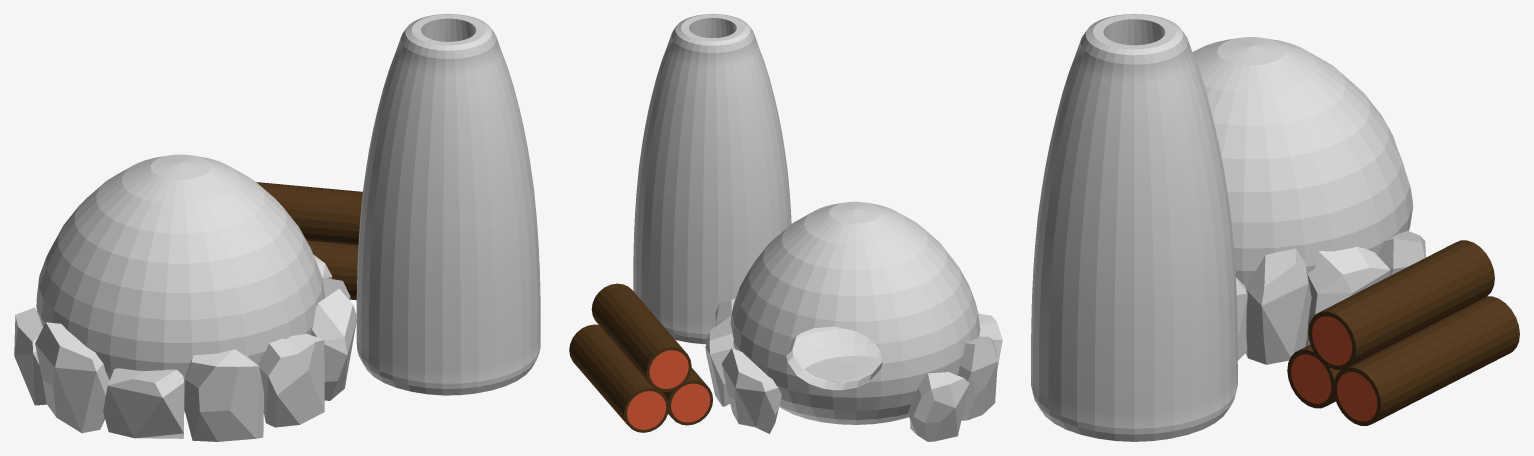
The model's file is kiln_03(1).fbx.
The picture shows the model from 3 angles, left to right: view 1: azimuth 30°, elevation 25°; view 2: azimuth 150°, elevation 25°; view 3: azimuth 270°, elevation 25°; orthographic projection. The views are drawn at different scales.
Parts seen in each view (by area): view 1: Cylinder, Sphere, Icosphere.007, Icosphere.004, Icosphere.005, Icosphere.008, Cylinder.002, Icosphere.003, Icosphere.006, Cylinder.001; view 2: Sphere, Cylinder, Cylinder.002, Cylinder.006, Icosphere.006, Icosphere.001, Icosphere.004, Cylinder.001, Icosphere, Icosphere.008; view 3: Cylinder, Sphere, Cylinder.002, Cylinder.006, Icosphere.009, Icosphere, Cylinder.001, Icosphere.001, Icosphere.002.
Boxes of the visible parts, box(x1,y1,x2,y2) form: Cylinder: box(356, 14, 540, 395); Sphere: box(36, 154, 324, 411); Icosphere.007: box(184, 349, 263, 441); Icosphere.004: box(35, 322, 109, 432); Icosphere.005: box(257, 333, 324, 427); Icosphere.008: box(103, 368, 184, 438); Cylinder.002: box(256, 182, 362, 245); Icosphere.003: box(311, 288, 357, 400); Icosphere.006: box(14, 307, 46, 405); Cylinder.001: box(307, 240, 358, 300); Sphere: box(730, 201, 980, 424); Cylinder: box(633, 14, 791, 344); Cylinder.002: box(591, 283, 691, 391); Cylinder.006: box(569, 324, 668, 432); Icosphere.006: box(908, 372, 969, 441); Icosphere.001: box(721, 348, 781, 433); Icosphere.004: box(957, 336, 997, 420); Cylinder.001: box(662, 367, 712, 425); Icosphere: box(705, 315, 734, 406); Icosphere.008: box(978, 313, 1002, 369); Cylinder: box(1031, 14, 1237, 441); Sphere: box(1192, 37, 1413, 290); Cylinder.002: box(1308, 240, 1494, 369); Cylinder.006: box(1333, 296, 1519, 425); Icosphere.009: box(1245, 248, 1311, 364); Icosphere: box(1305, 246, 1390, 346); Cylinder.001: box(1287, 344, 1340, 408); Icosphere.001: box(1377, 230, 1425, 275); Icosphere.002: box(1236, 277, 1247, 360).
Bounding box in the file's own units: 4.06 × 2.99 × 3.47.
